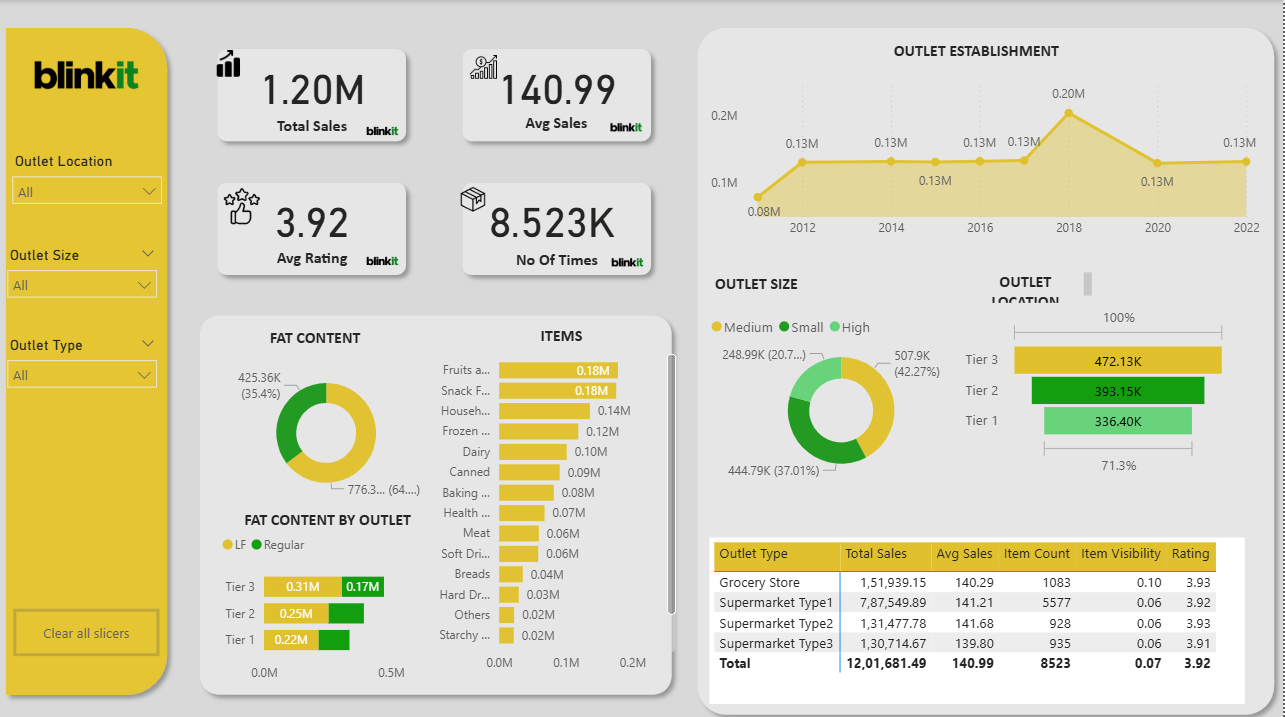

The page's visual inventory and layout, read from the dashboard file:
{"tool":"powerbi","page":{"name":"Page 1","canvas":[1280,720],"ordinal":0},"visuals":[{"type":"shape","box":[0,19.2,178.4,682],"z":0},{"type":"image","box":[0,0,178.4,149.6],"z":1000},{"type":"shape","box":[209.9,39.8,205.8,109.8],"z":2000},{"type":"shape","box":[454.2,39.8,205.8,109.8],"z":3000},{"type":"shape","box":[209.9,172.9,205.8,109.8],"z":4000},{"type":"shape","box":[454.2,172.9,205.8,109.8],"z":5000},{"type":"shape","box":[192.8,304.8,487.6,395.6],"z":6000},{"type":"shape","box":[687.9,18.7,592.1,701.6],"z":7000},{"type":"cardVisual","fields":{"Data":["Sum(BlinkIT Grocery Data (2).Sales)"]},"box":[226.4,39.8,174.2,87.1],"z":8000},{"type":"cardVisual","fields":{"Data":["Avg(BlinkIT Grocery Data (2).Sales)"]},"box":[470.2,39.8,174.2,87.1],"z":9000},{"type":"cardVisual","fields":{"Data":["Avg(BlinkIT Grocery Data (2).Rating)"]},"box":[226.4,172.9,174.2,87.1],"z":10000},{"type":"cardVisual","fields":{"Data":["CountNonNull(BlinkIT Grocery Data (2).Item Identifier)"]},"box":[465.2,172.9,174.2,87.1],"z":11000},{"type":"textbox","box":[250,110.7,126.9,38.6],"z":12000},{"type":"textbox","box":[483.9,107,145.5,42.3],"z":13000},{"type":"textbox","box":[250,241.3,126.9,38.6],"z":14000},{"type":"textbox","box":[493.9,243.8,126.9,38.6],"z":15000},{"type":"image","box":[352,104.5,63.4,52.2],"z":16000},{"type":"image","box":[595.9,235.1,63.4,52.2],"z":17000},{"type":"image","box":[352,233.9,63.4,52.2],"z":18000},{"type":"image","box":[594.6,100.8,63.4,52.2],"z":19000},{"type":"image","box":[210.2,39.8,39.8,46],"z":20000},{"type":"image","box":[218.9,180.4,49.8,49.8],"z":21000},{"type":"image","box":[464,47.3,39.8,38.6],"z":22000},{"type":"image","box":[454,180.4,39.8,36.1],"z":23000},{"type":"barChart","fields":{"Category":["BlinkIT Grocery Data (2).Item Type"],"Y":["Sum(BlinkIT Grocery Data (2).Sales)"]},"box":[422.9,339.6,257.5,338.4],"z":24000},{"type":"textbox","box":[493.9,319.7,135.6,39.8],"z":25000},{"type":"donutChart","fields":{"Category":["BlinkIT Grocery Data (2).Item Fat Content"],"Y":["Sum(BlinkIT Grocery Data (2).Sales)"]},"box":[218.9,359.5,217.7,143.1],"z":26000},{"type":"textbox","box":[248.8,320.9,135.6,39.8],"z":27000},{"type":"barChart","fields":{"Y":["Sum(BlinkIT Grocery Data (2).Sales)"],"Series":["BlinkIT Grocery Data (2).Item Fat Content"],"Category":["BlinkIT Grocery Data (2).Outlet Location Type"]},"box":[218.9,522.5,217.7,165.4],"z":28000},{"type":"textbox","box":[235.1,502.6,187.8,31.1],"z":29000},{"type":"areaChart","fields":{"Category":["BlinkIT Grocery Data (2).Outlet Establishment Year"],"Y":["Sum(BlinkIT Grocery Data (2).Sales)"]},"box":[705.3,68.4,556,176.6],"z":30000},{"type":"textbox","box":[874.5,36.1,200.3,29.9],"z":31000},{"type":"donutChart","fields":{"Category":["BlinkIT Grocery Data (2).Outlet Size"],"Y":["Sum(BlinkIT Grocery Data (2).Sales)"]},"box":[705.3,304.8,269.9,177.9],"z":32000},{"type":"textbox","box":[687.9,267.5,135.6,39.8],"z":32001},{"type":"funnel","fields":{"Y":["Sum(BlinkIT Grocery Data (2).Sales)"],"Category":["BlinkIT Grocery Data (2).Outlet Location Type"]},"box":[959.1,299.8,269.9,177.9],"z":32002},{"type":"textbox","box":[959.1,266.2,135.6,39.8],"z":32003},{"type":"pivotTable","fields":{"Rows":["BlinkIT Grocery Data (2).Outlet Type"],"Values":["Sum(BlinkIT Grocery Data (2).Sales)","Avg(BlinkIT Grocery Data (2).Sales)","CountNonNull(BlinkIT Grocery Data (2).Item Identifier)","Avg(BlinkIT Grocery Data (2).Item Visibility)","Avg(BlinkIT Grocery Data (2).Rating)"]},"box":[709.1,534.9,532.4,165.4],"z":32004},{"type":"slicer","fields":{"Values":["BlinkIT Grocery Data (2).Outlet Location Type"]},"box":[5,146.8,169.2,80.9],"z":32005},{"type":"slicer","fields":{"Values":["BlinkIT Grocery Data (2).Outlet Type"]},"box":[0,329.6,169.2,80.9],"z":32006},{"type":"slicer","fields":{"Values":["BlinkIT Grocery Data (2).Outlet Size"]},"box":[0,240.1,169.2,80.9],"z":32007},{"type":"actionButton","box":[16.2,605.8,145.5,47.3],"z":32008}]}

Visuals, with their boxes in screenshot pixels (x1, y1, x2, y2), scaled from the page's 1280x720 canvas onto the 1285x717 screenshot:
shape: (x1=0, y1=19, x2=179, y2=698)
image: (x1=0, y1=0, x2=179, y2=149)
shape: (x1=211, y1=40, x2=417, y2=149)
shape: (x1=456, y1=40, x2=663, y2=149)
shape: (x1=211, y1=172, x2=417, y2=282)
shape: (x1=456, y1=172, x2=663, y2=282)
shape: (x1=194, y1=304, x2=683, y2=697)
shape: (x1=691, y1=19, x2=1284, y2=716)
cardVisual - Sum(BlinkIT Grocery Data (2).Sales): (x1=227, y1=40, x2=402, y2=126)
cardVisual - Avg(BlinkIT Grocery Data (2).Sales): (x1=472, y1=40, x2=647, y2=126)
cardVisual - Avg(BlinkIT Grocery Data (2).Rating): (x1=227, y1=172, x2=402, y2=259)
cardVisual - CountNonNull(BlinkIT Grocery Data (2).Item Identifier): (x1=467, y1=172, x2=642, y2=259)
textbox: (x1=251, y1=110, x2=378, y2=149)
textbox: (x1=486, y1=107, x2=632, y2=149)
textbox: (x1=251, y1=240, x2=378, y2=279)
textbox: (x1=496, y1=243, x2=623, y2=281)
image: (x1=353, y1=104, x2=417, y2=156)
image: (x1=598, y1=234, x2=662, y2=286)
image: (x1=353, y1=233, x2=417, y2=285)
image: (x1=597, y1=100, x2=661, y2=152)
image: (x1=211, y1=40, x2=251, y2=85)
image: (x1=220, y1=180, x2=270, y2=229)
image: (x1=466, y1=47, x2=506, y2=86)
image: (x1=456, y1=180, x2=496, y2=216)
barChart - BlinkIT Grocery Data (2).Item Type x Sum(BlinkIT Grocery Data (2).Sales): (x1=425, y1=338, x2=683, y2=675)
textbox: (x1=496, y1=318, x2=632, y2=358)
donutChart - BlinkIT Grocery Data (2).Item Fat Content x Sum(BlinkIT Grocery Data (2).Sales): (x1=220, y1=358, x2=438, y2=501)
textbox: (x1=250, y1=320, x2=386, y2=359)
barChart - Sum(BlinkIT Grocery Data (2).Sales) x BlinkIT Grocery Data (2).Item Fat Content: (x1=220, y1=520, x2=438, y2=685)
textbox: (x1=236, y1=501, x2=425, y2=531)
areaChart - BlinkIT Grocery Data (2).Outlet Establishment Year x Sum(BlinkIT Grocery Data (2).Sales): (x1=708, y1=68, x2=1266, y2=244)
textbox: (x1=878, y1=36, x2=1079, y2=66)
donutChart - BlinkIT Grocery Data (2).Outlet Size x Sum(BlinkIT Grocery Data (2).Sales): (x1=708, y1=304, x2=979, y2=481)
textbox: (x1=691, y1=266, x2=827, y2=306)
funnel - Sum(BlinkIT Grocery Data (2).Sales) x BlinkIT Grocery Data (2).Outlet Location Type: (x1=963, y1=299, x2=1234, y2=476)
textbox: (x1=963, y1=265, x2=1099, y2=305)
pivotTable - BlinkIT Grocery Data (2).Outlet Type x Sum(BlinkIT Grocery Data (2).Sales): (x1=712, y1=533, x2=1246, y2=697)
slicer - BlinkIT Grocery Data (2).Outlet Location Type: (x1=5, y1=146, x2=175, y2=227)
slicer - BlinkIT Grocery Data (2).Outlet Type: (x1=0, y1=328, x2=170, y2=409)
slicer - BlinkIT Grocery Data (2).Outlet Size: (x1=0, y1=239, x2=170, y2=320)
actionButton: (x1=16, y1=603, x2=162, y2=650)
